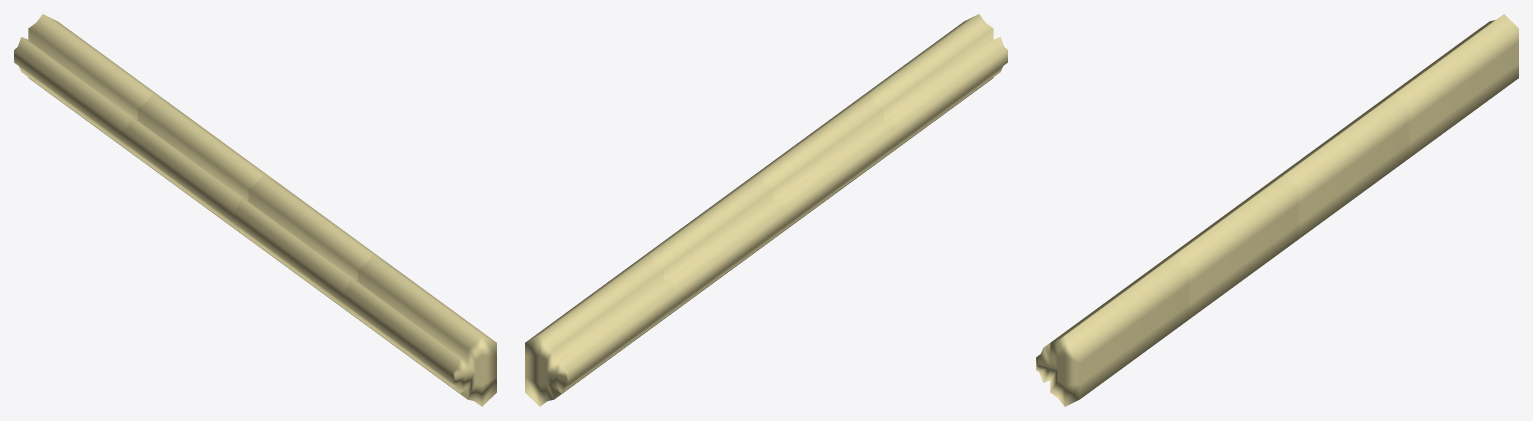
Rendered from Wall_Orn_05_x4.fbx.
3 renders of one model, left to right at view 1: azimuth 30°, elevation 25°; view 2: azimuth 150°, elevation 25°; view 3: azimuth 330°, elevation 25°, orthographic.
Parts seen in each view (by area): view 1: Wall_Orn_05_x4; view 2: Wall_Orn_05_x4; view 3: Wall_Orn_05_x4.
Part boxes in pixels (box(x1,y1,x2,y2)): Wall_Orn_05_x4: box(14, 14, 496, 406); Wall_Orn_05_x4: box(525, 14, 1007, 406); Wall_Orn_05_x4: box(1036, 14, 1518, 406).
Bounding box in the file's own units: 34.45 × 53.89 × 601.
